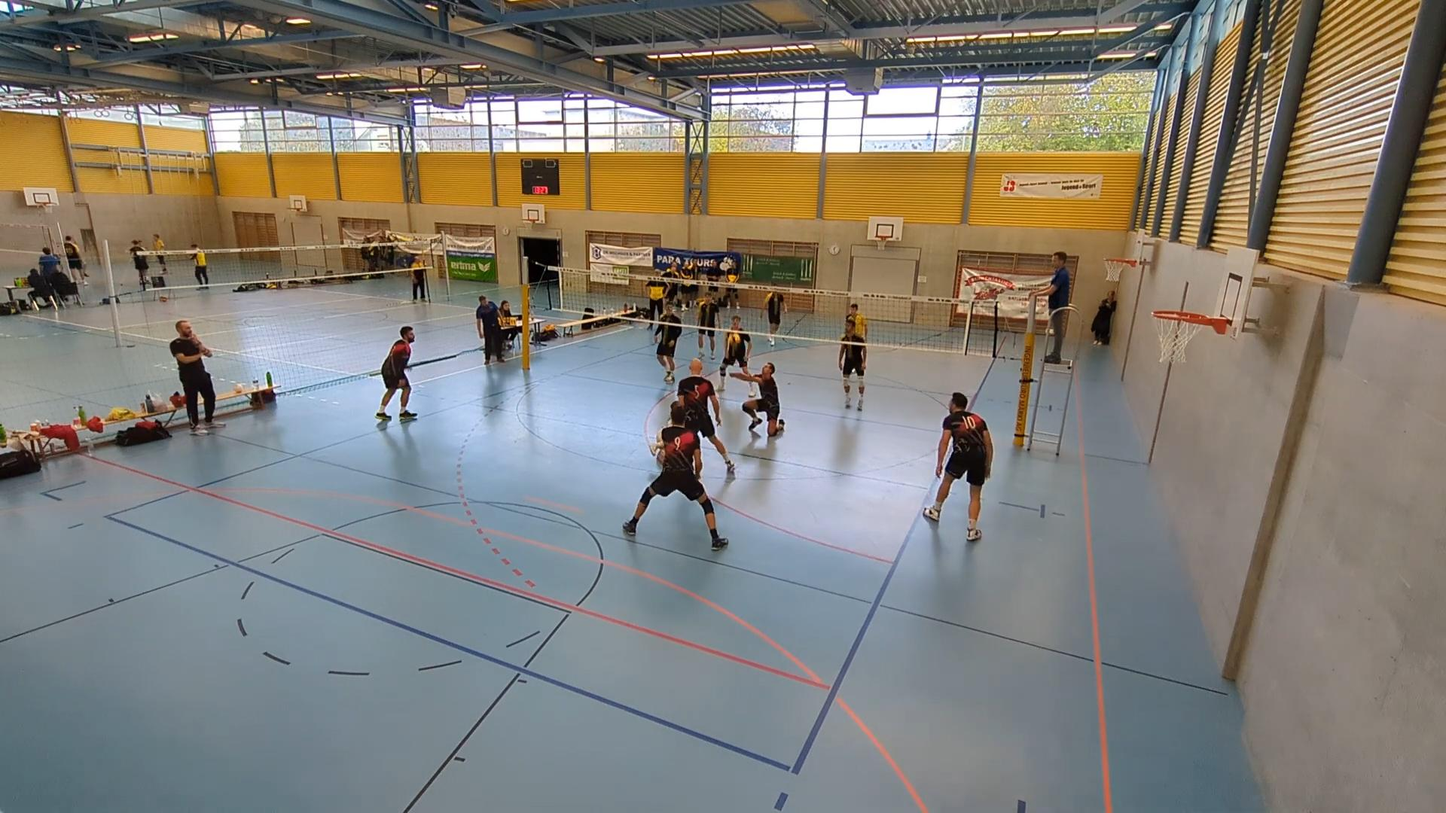Player: (623, 402, 728, 549), (923, 393, 993, 540), (678, 360, 734, 472), (376, 327, 416, 421), (838, 317, 866, 410), (718, 315, 751, 391), (654, 302, 682, 383), (697, 292, 718, 358), (765, 291, 785, 346), (846, 303, 867, 337)
Set: (726, 362, 786, 443)
ball: (724, 329, 743, 350)
